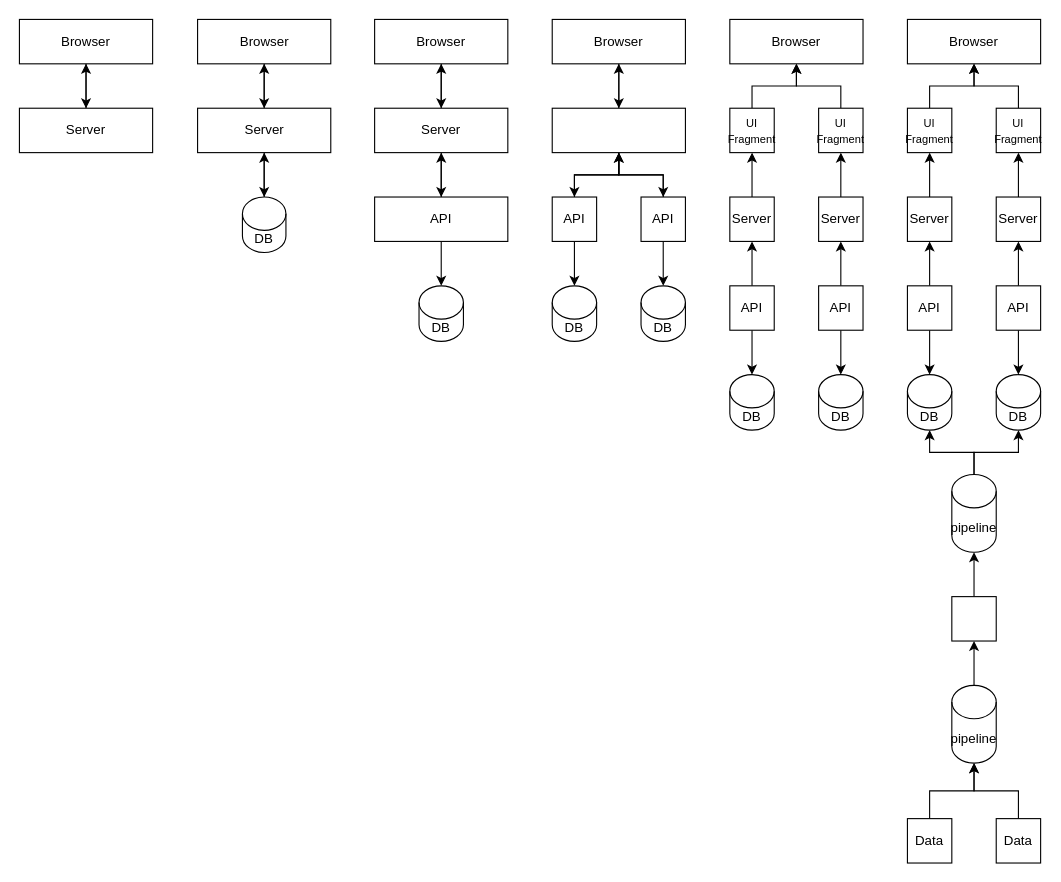
Image size: 1061x882. Some labels were removed from this diagram. The shapes that lost their labels are listed below. From the top down, each one's centre as x and y in pixels, then its label:
pixel 618 130: BFF
pixel 973 618: Core Data
